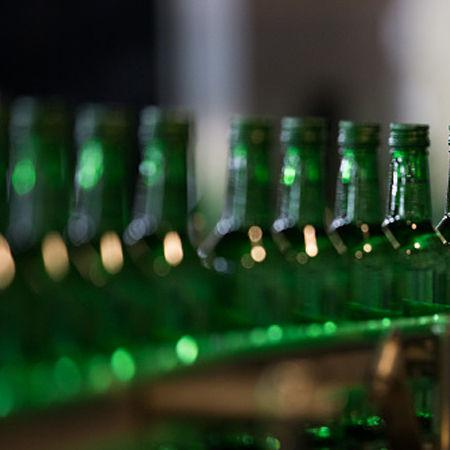soju: (9, 102, 449, 448)
